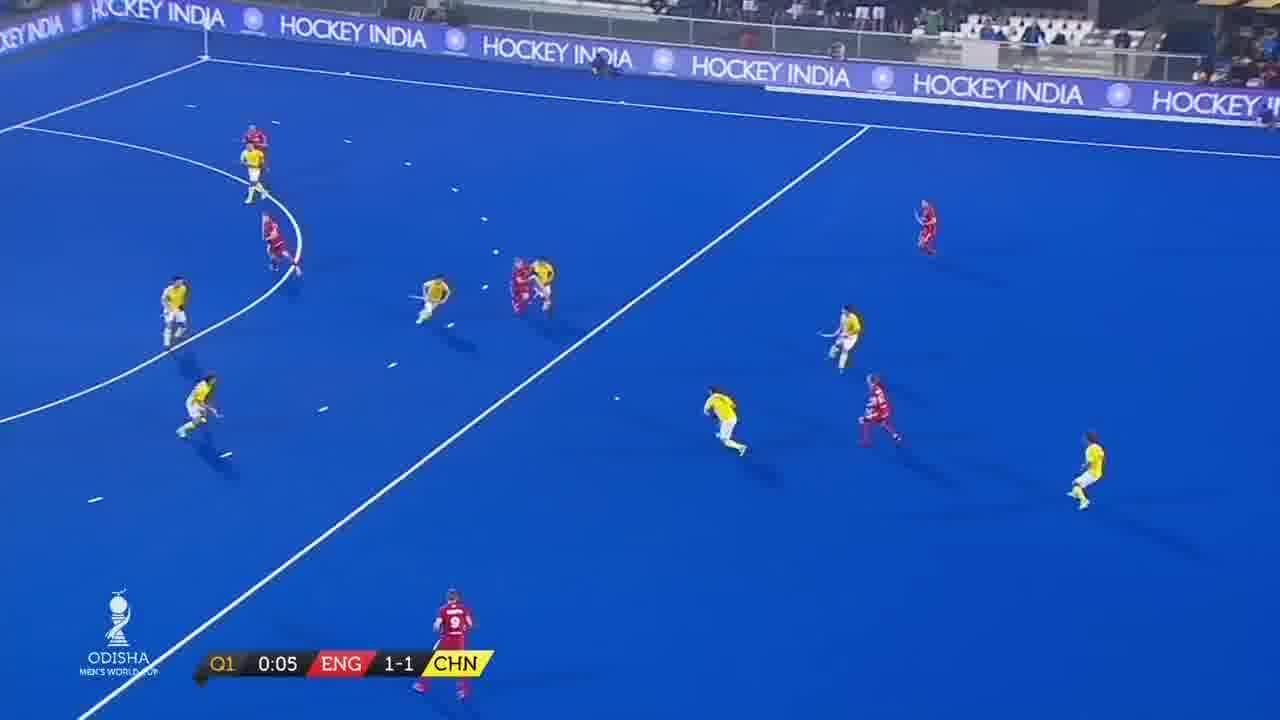ball: (606, 390, 626, 412)
